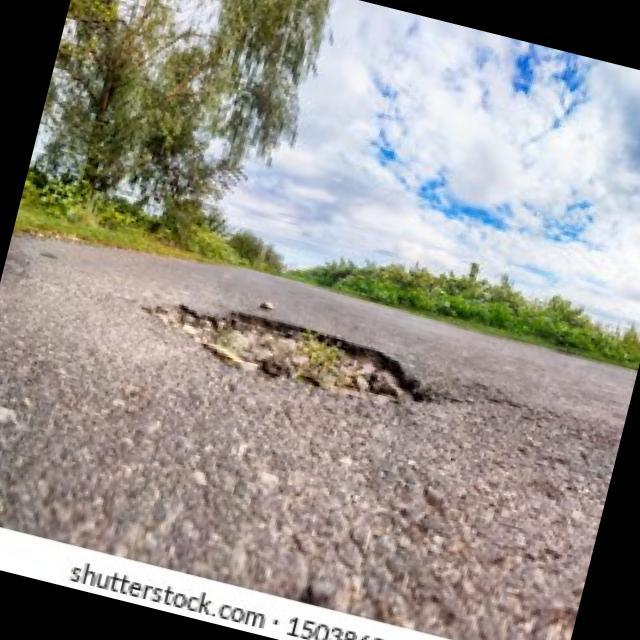Pothole: (127, 285, 446, 421)
